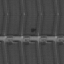dust: (30, 27, 36, 32)
